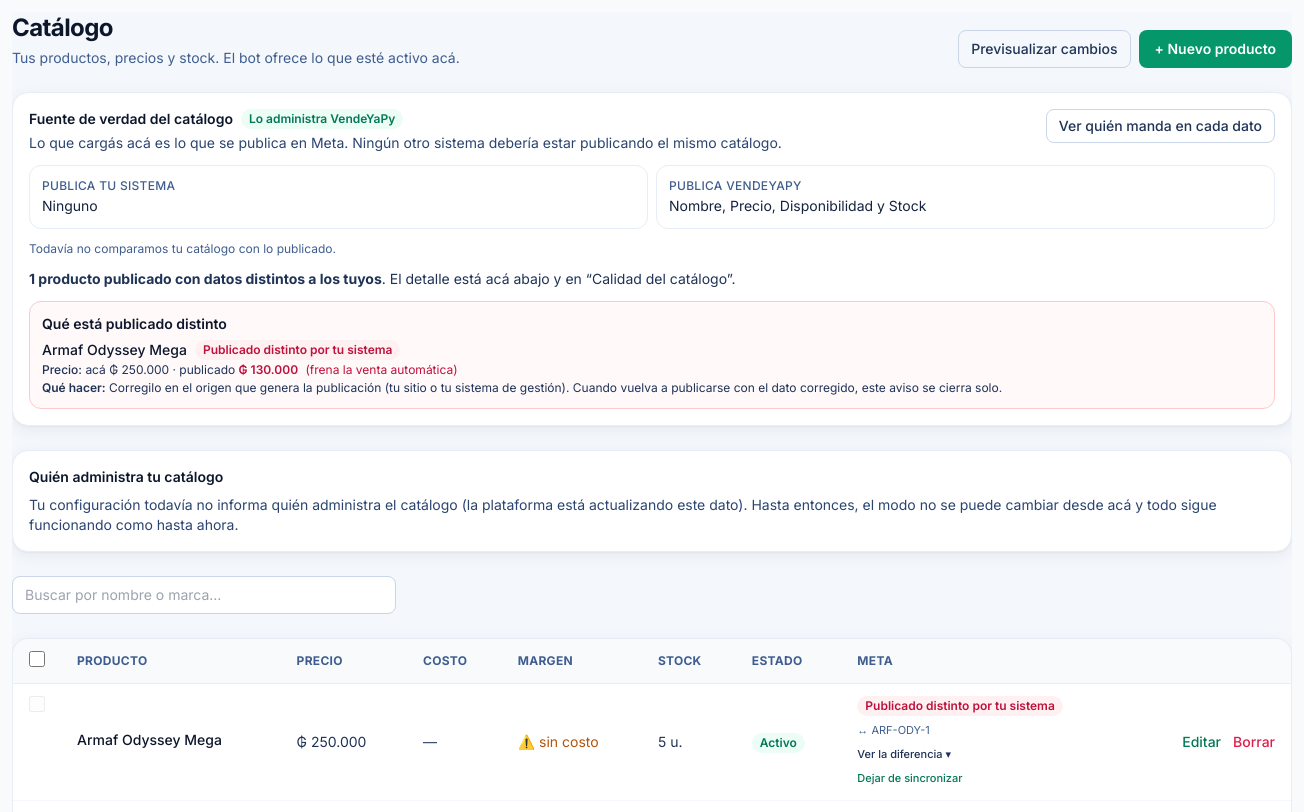
CatalogPage — con campos propios el flujo de siempre sigue intacto › ofrece la selección masiva, el opt-in y el envío del plan previsualizado
Click the button "Previsualizar cambios". click: (1044, 49)
box: [958, 30, 1130, 68]
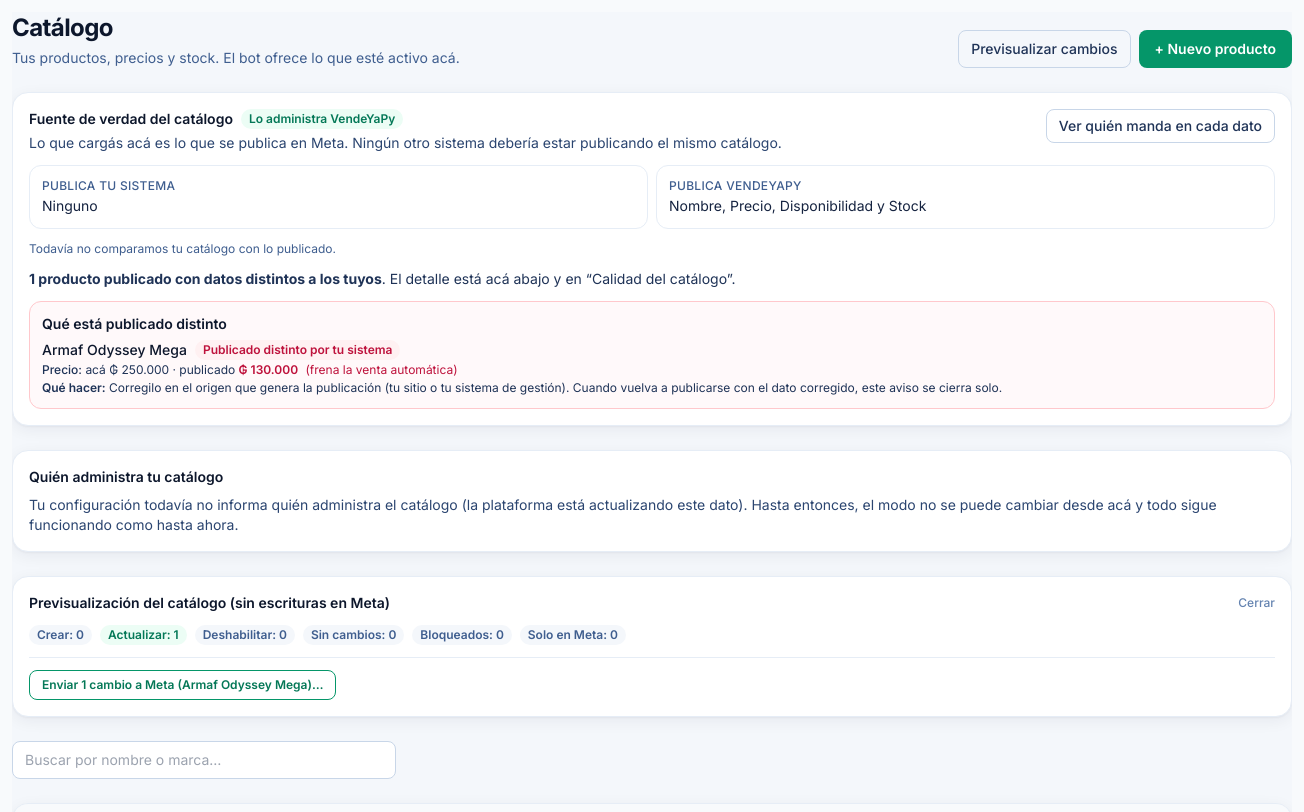
Result: the heading "Previsualización del catálogo (sin escrituras en Meta)" is shown at [29, 593, 390, 613]
Result: the button "Enviar 1 cambio a Meta (Armaf Odyssey Mega)…" is shown at [29, 670, 336, 700]
